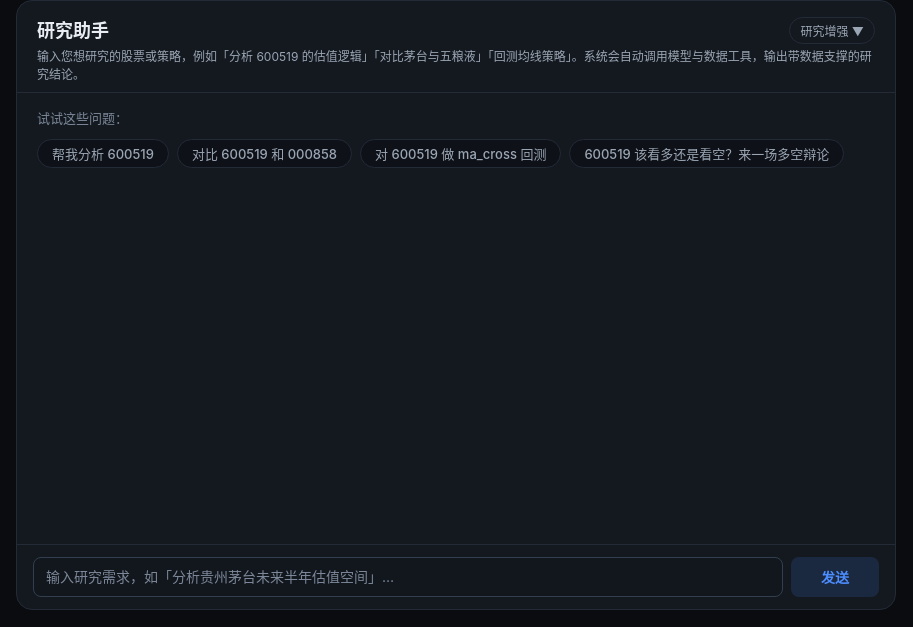
Scenario: ChatPanel › 清空按钮清空当前对话
Type "分析 600519" into the text box named "对话输入" at (408,577), box [33,557,783,597]
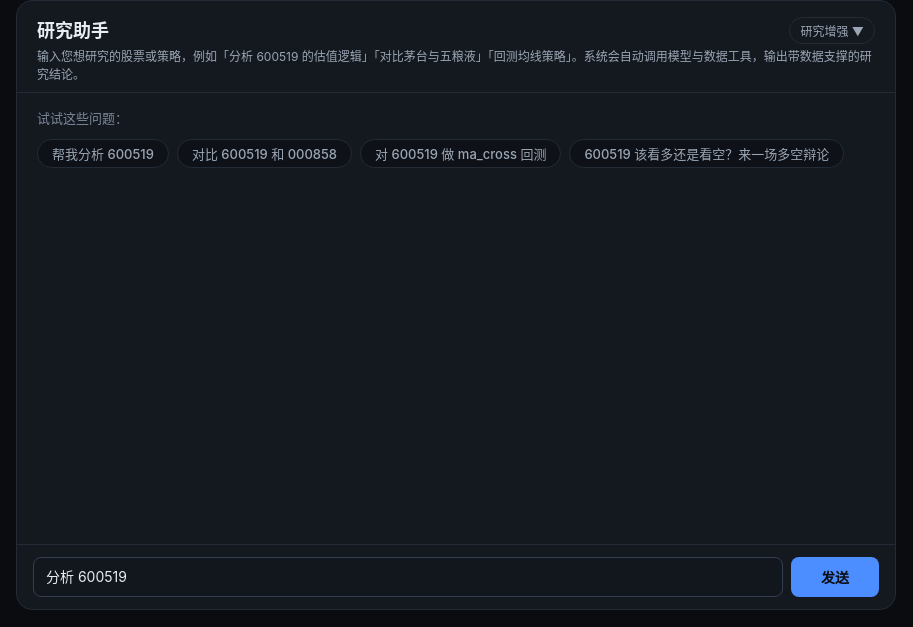
Click the button "发送" at (835,577), box [791,557,879,597]
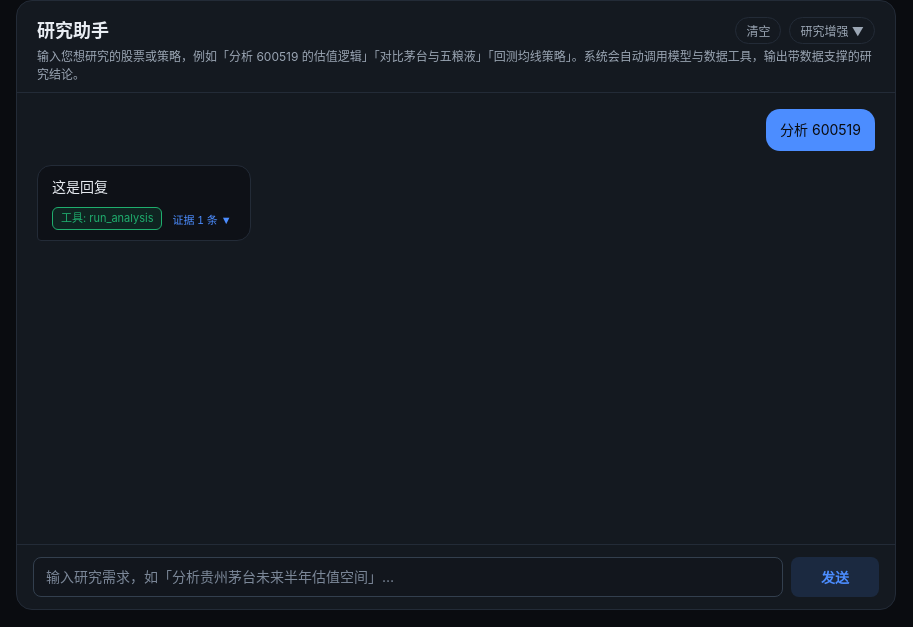
Expected: the text "这是回复" is shown, [52,178,108,195]
Click the button "清空" at (758,30), box [736,17,782,44]
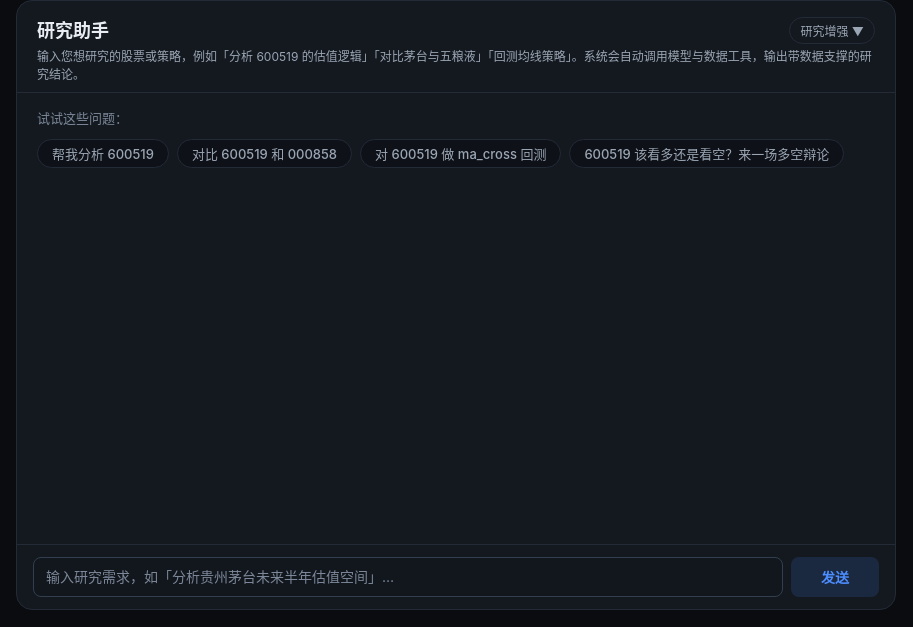
Expected: the text "这是回复" is gone
